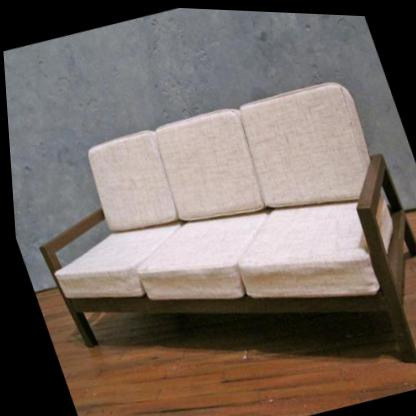Sofa: (3, 60, 416, 416)
